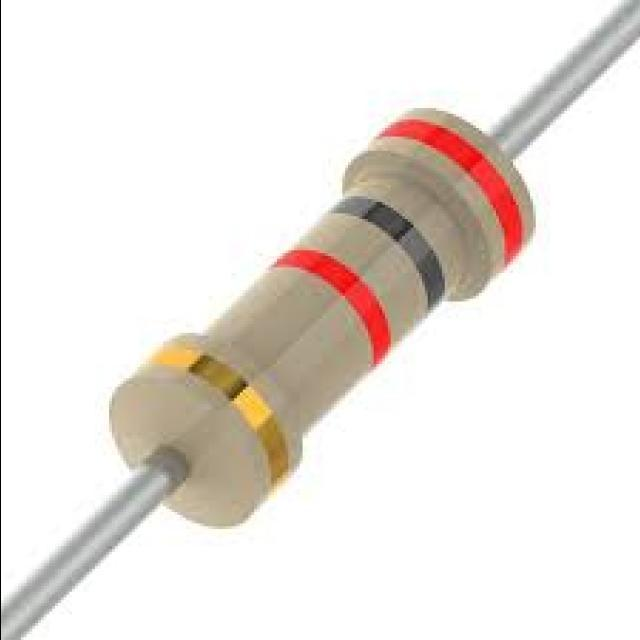Resistor: (111, 109, 534, 525)
black: (331, 196, 444, 307)
gold: (150, 345, 288, 484)
red: (379, 119, 522, 262), (274, 249, 390, 363)
